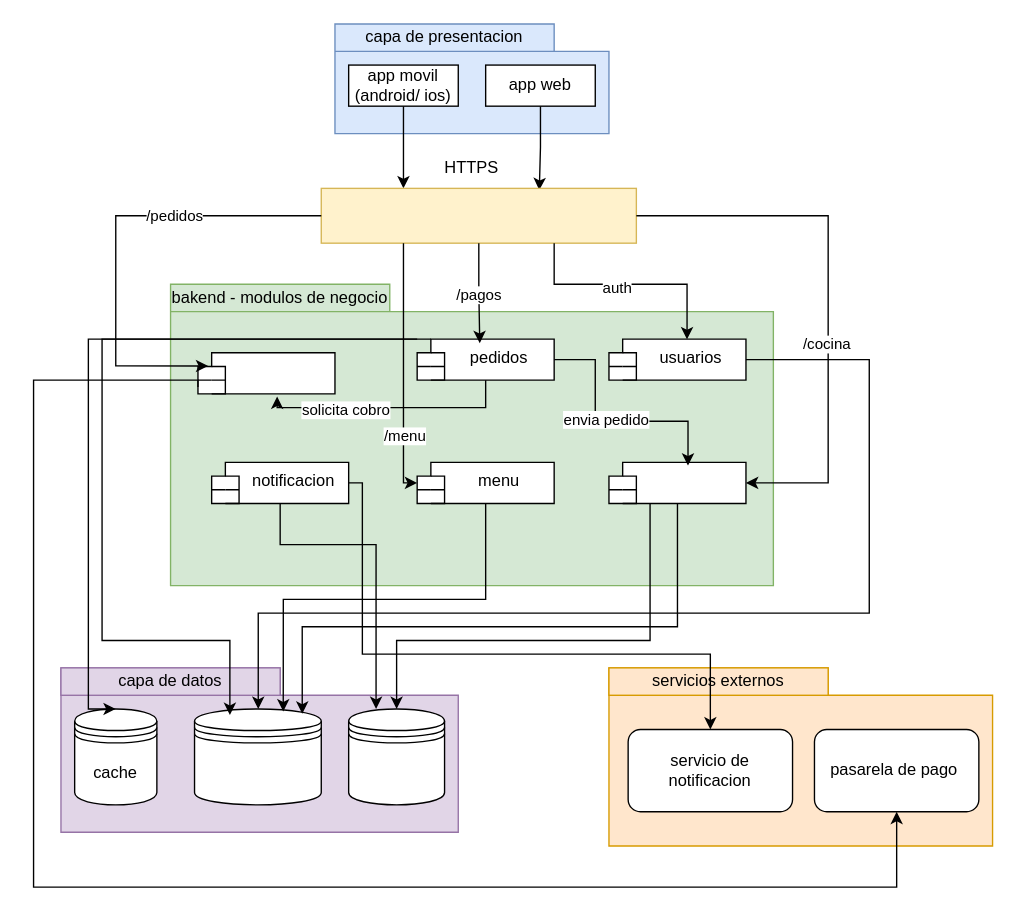
This 1017x922 diagram has some shape labels left out. The shapes that lost their labels are listed below. From the top down, each one's centre as x and y in pixels, then its label:
pixel 478 215: API Gateway\n(Enrutamiento + Autenticación JWT + control de acceso)
pixel 266 372: pagos
pixel 677 482: cocina
pixel 257 756: base de datos principal
pixel 396 756: cola de mensajes (RabbitMQ)
